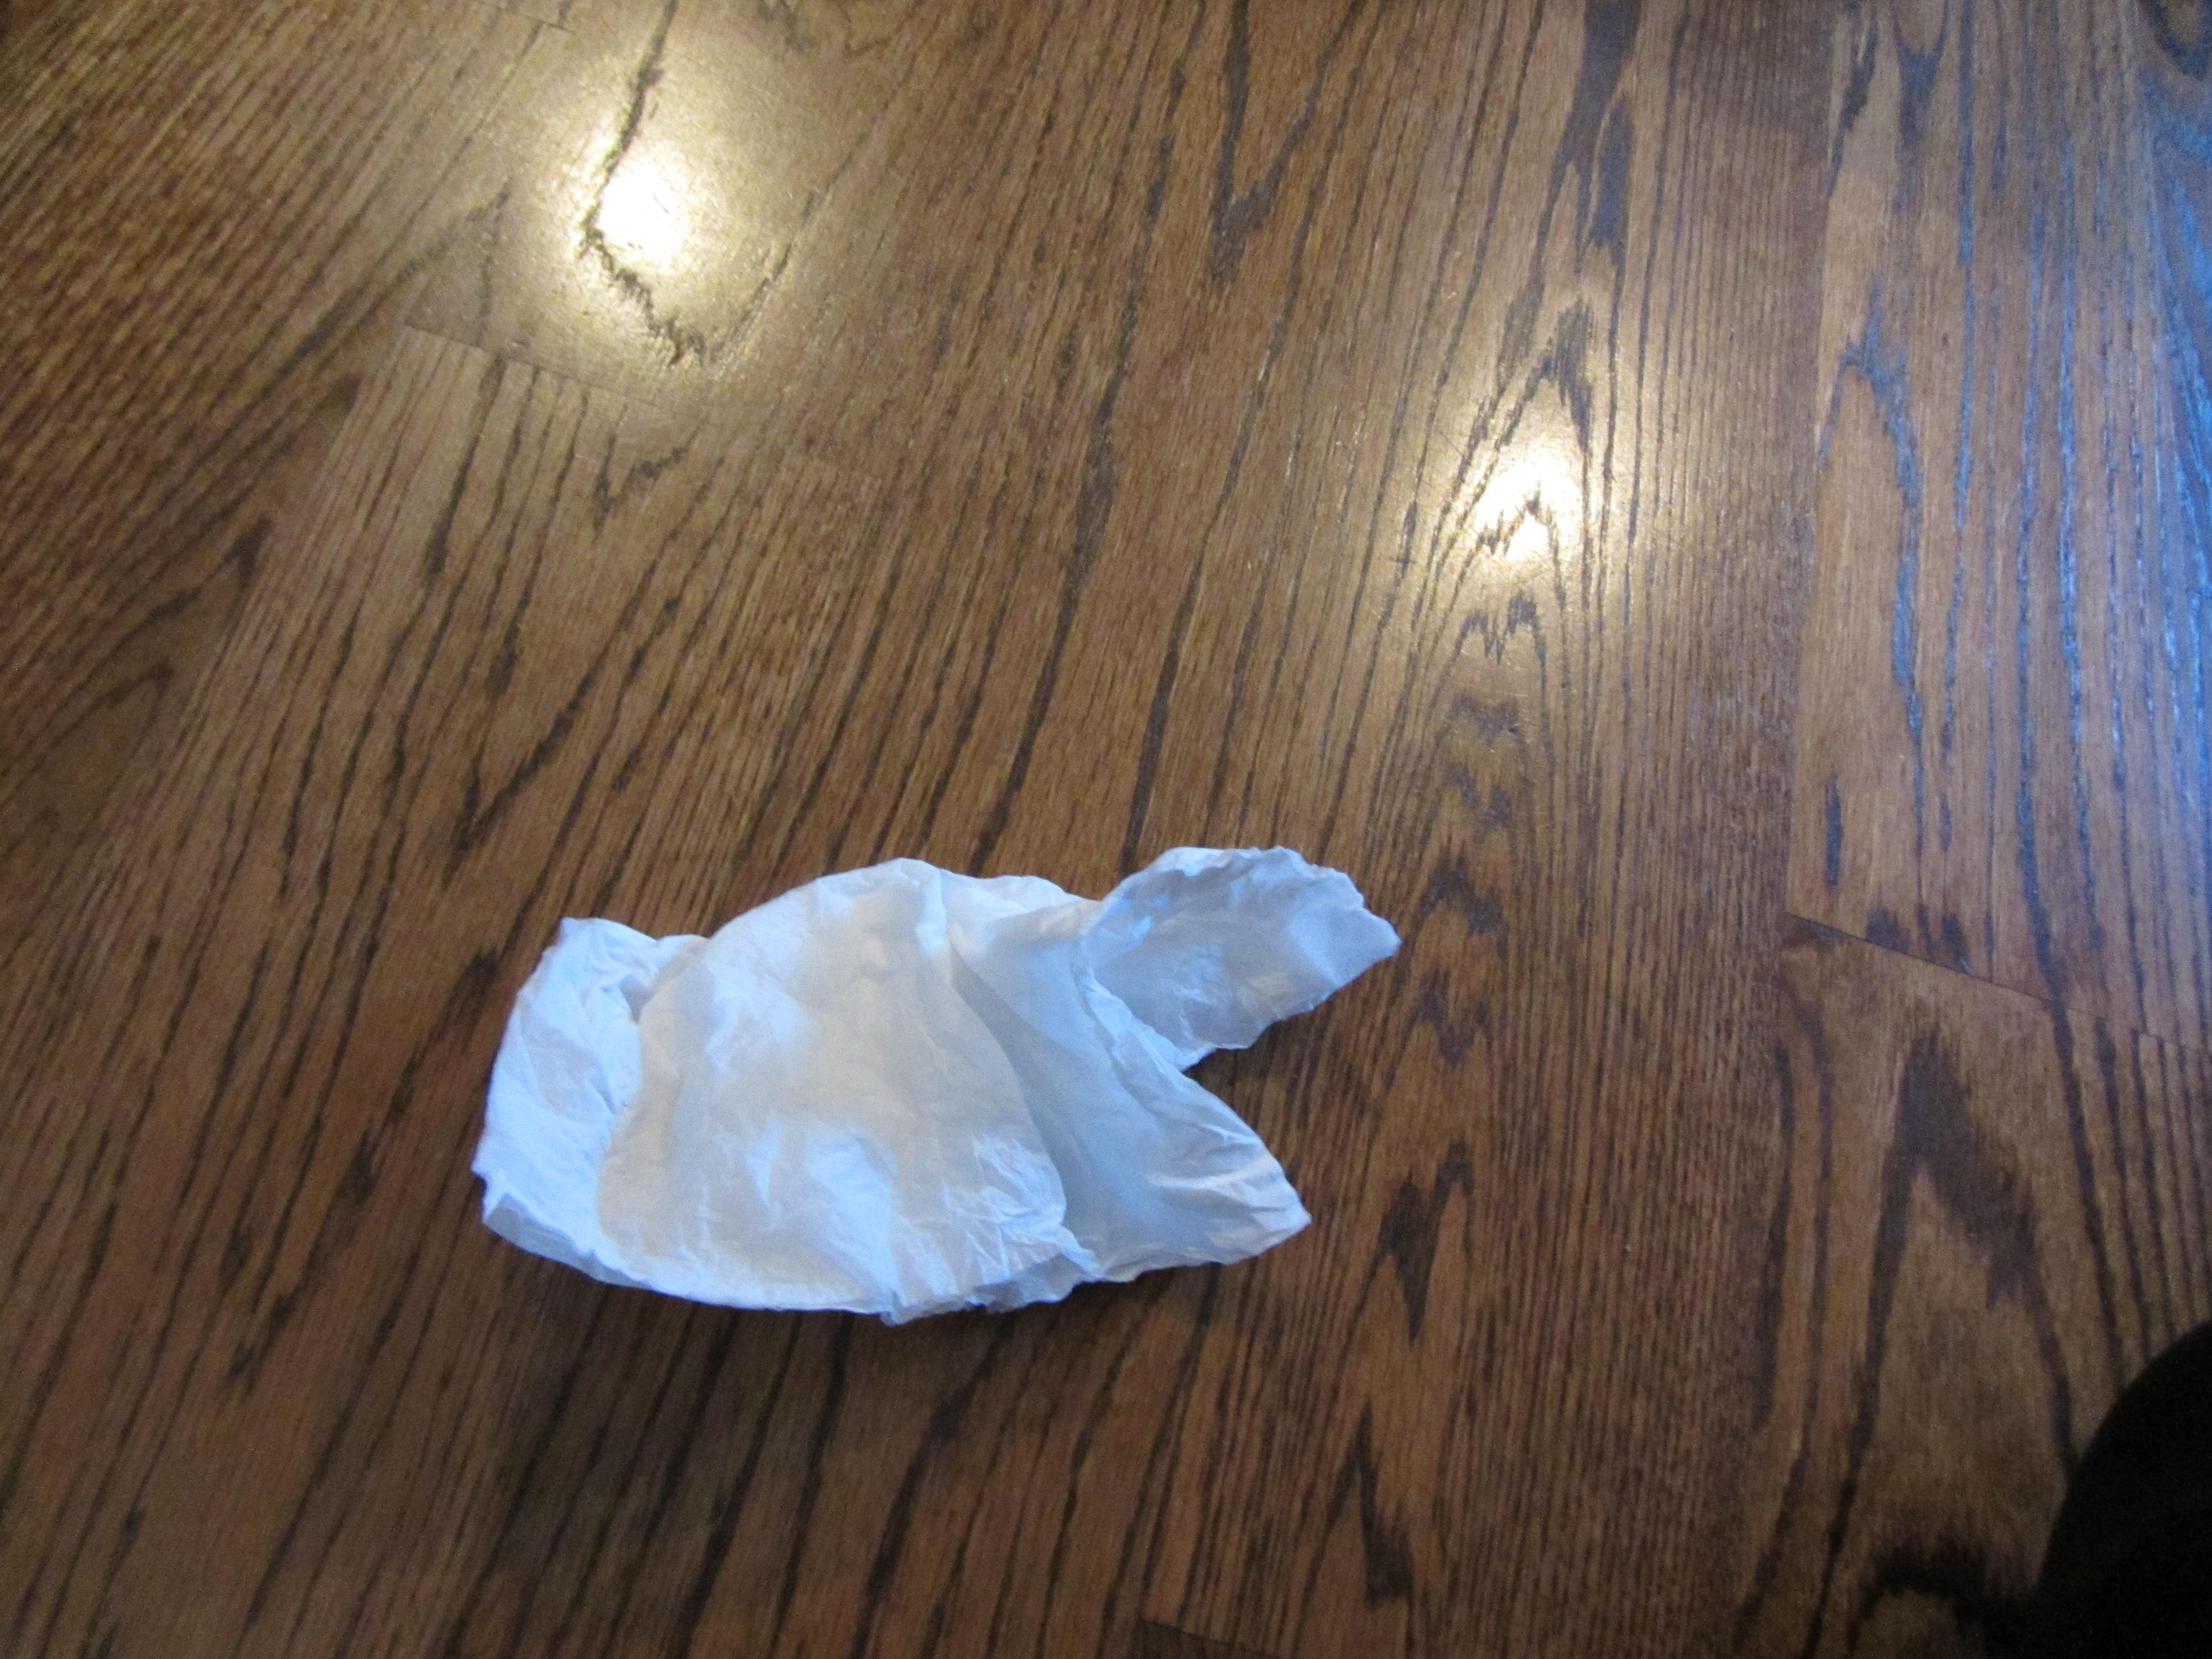tissue: (446, 836, 1402, 1342)
